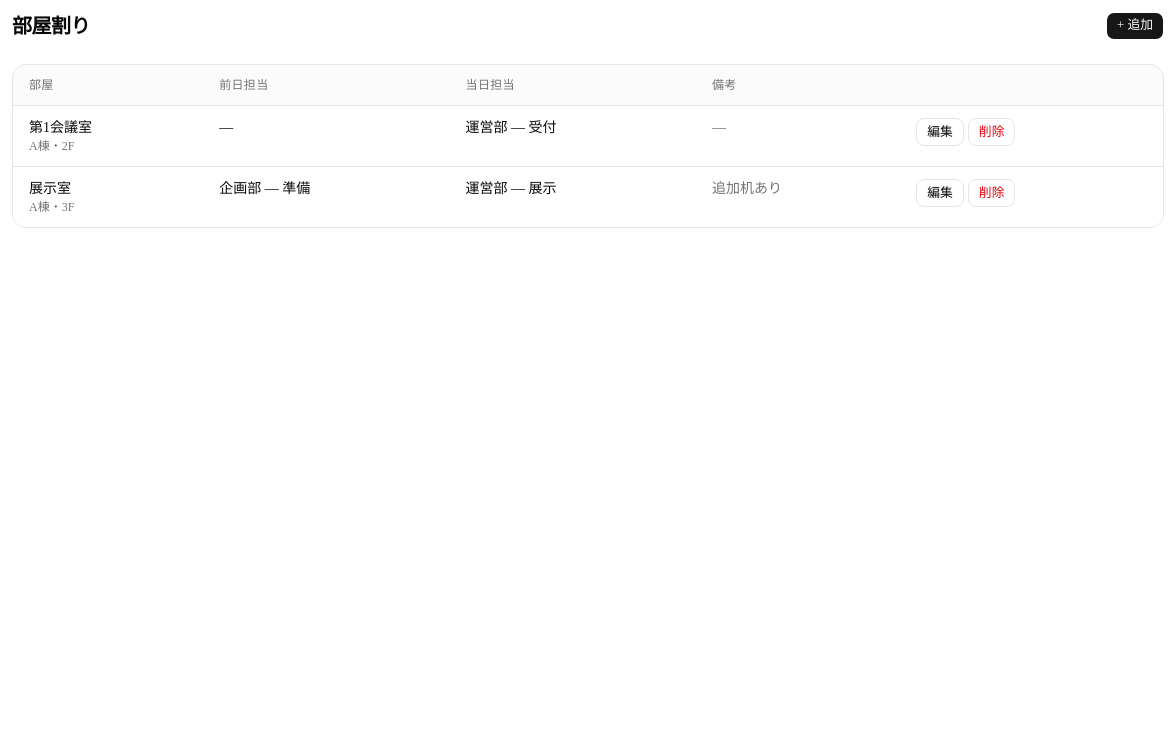
Test: RoomAdminPanel › キャンセルボタンでフォームを閉じる
Click the button "+ 追加".
click(1135, 26)  # box [1106, 12, 1164, 40]
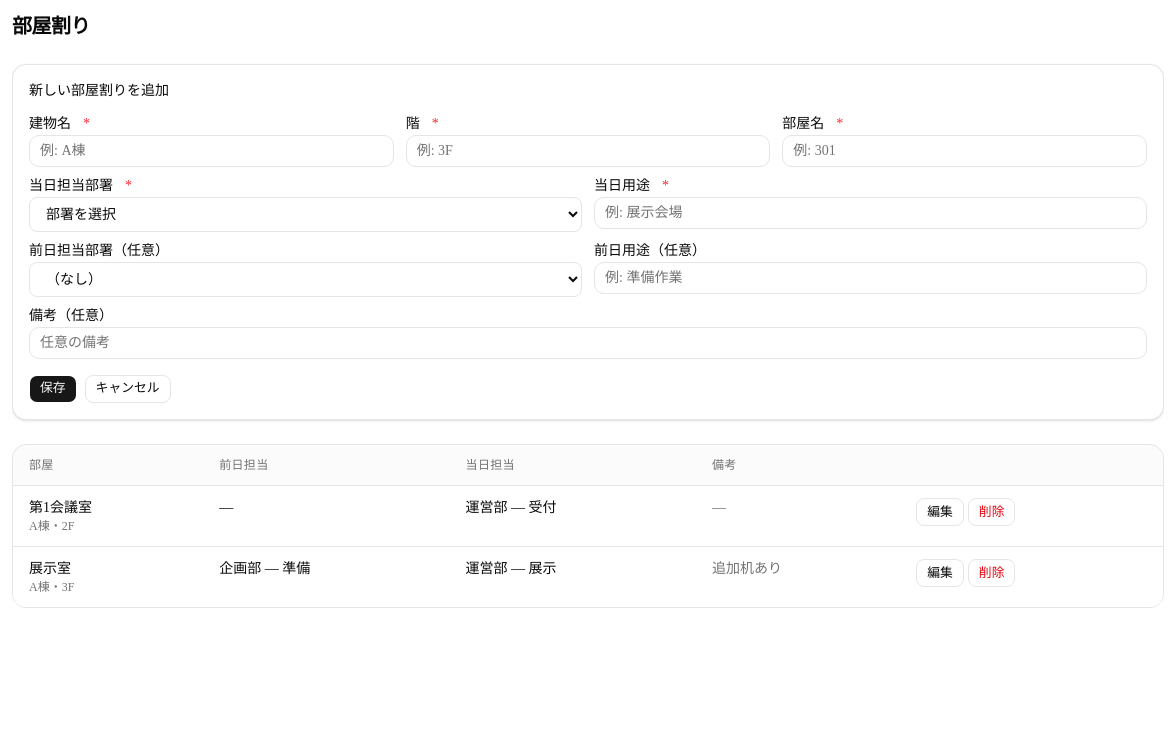
Click the button "キャンセル".
click(128, 389)  # box [85, 375, 171, 403]
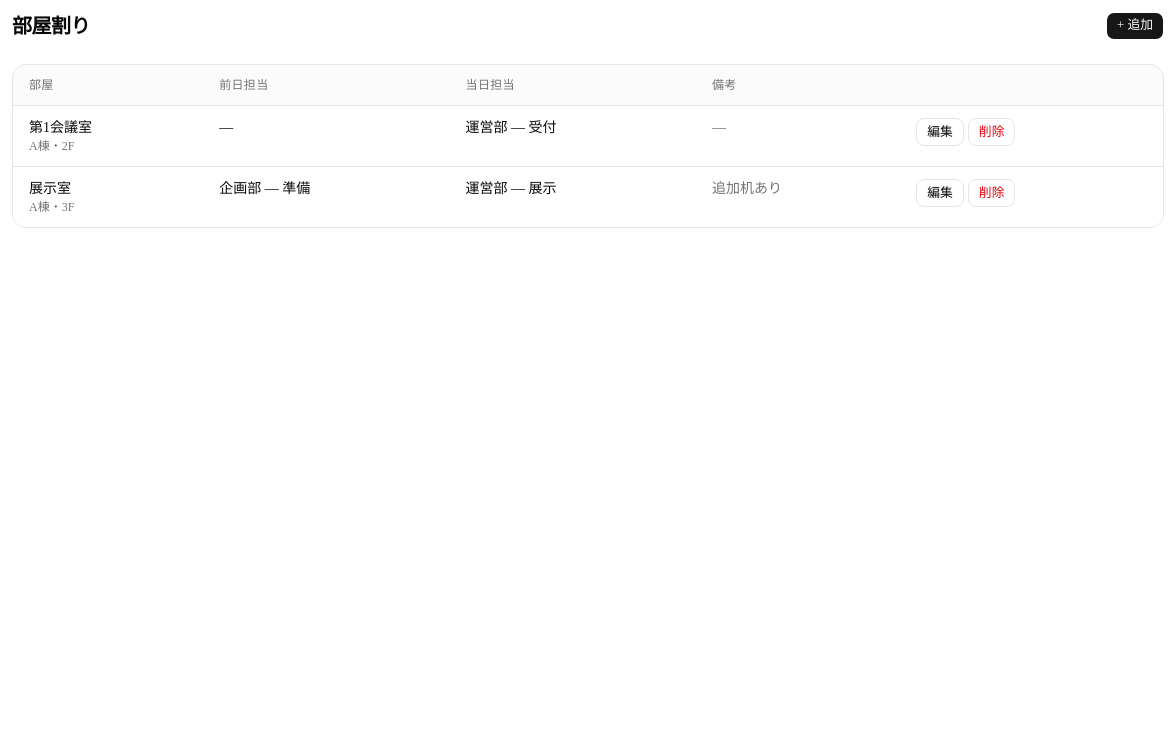
Now the heading "新しい部屋割りを追加" is gone
